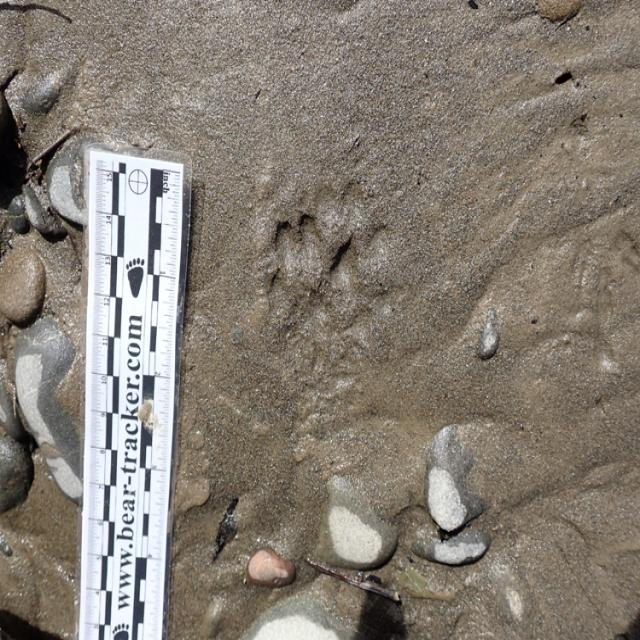mustelid: (265, 214, 361, 360)
